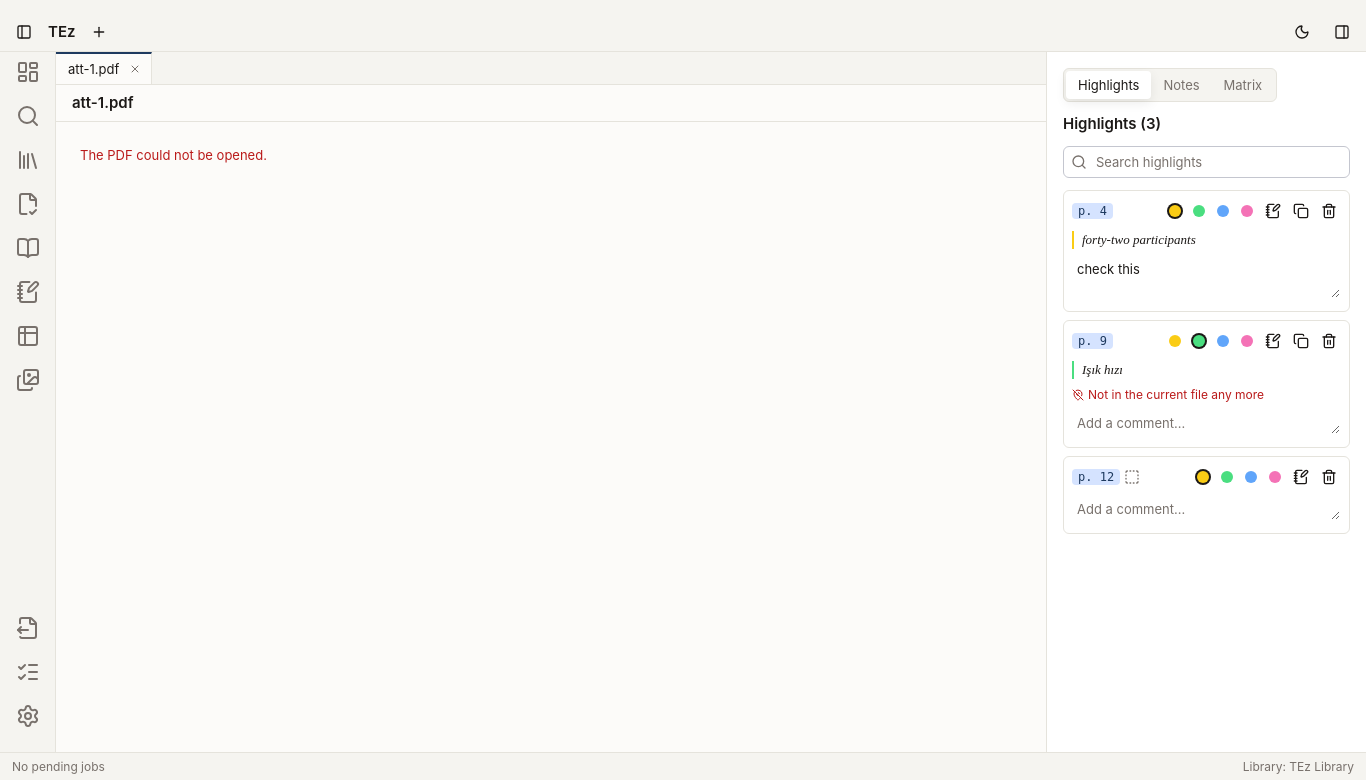
Test: the highlights panel › deletes a highlight and brings it back
The width and height of the screenshot is (1366, 780).
Click the button named "Delete the highlight" in the row of "p. 4".
click(1329, 211)  # box x1=1317 y1=199 x2=1341 y2=223
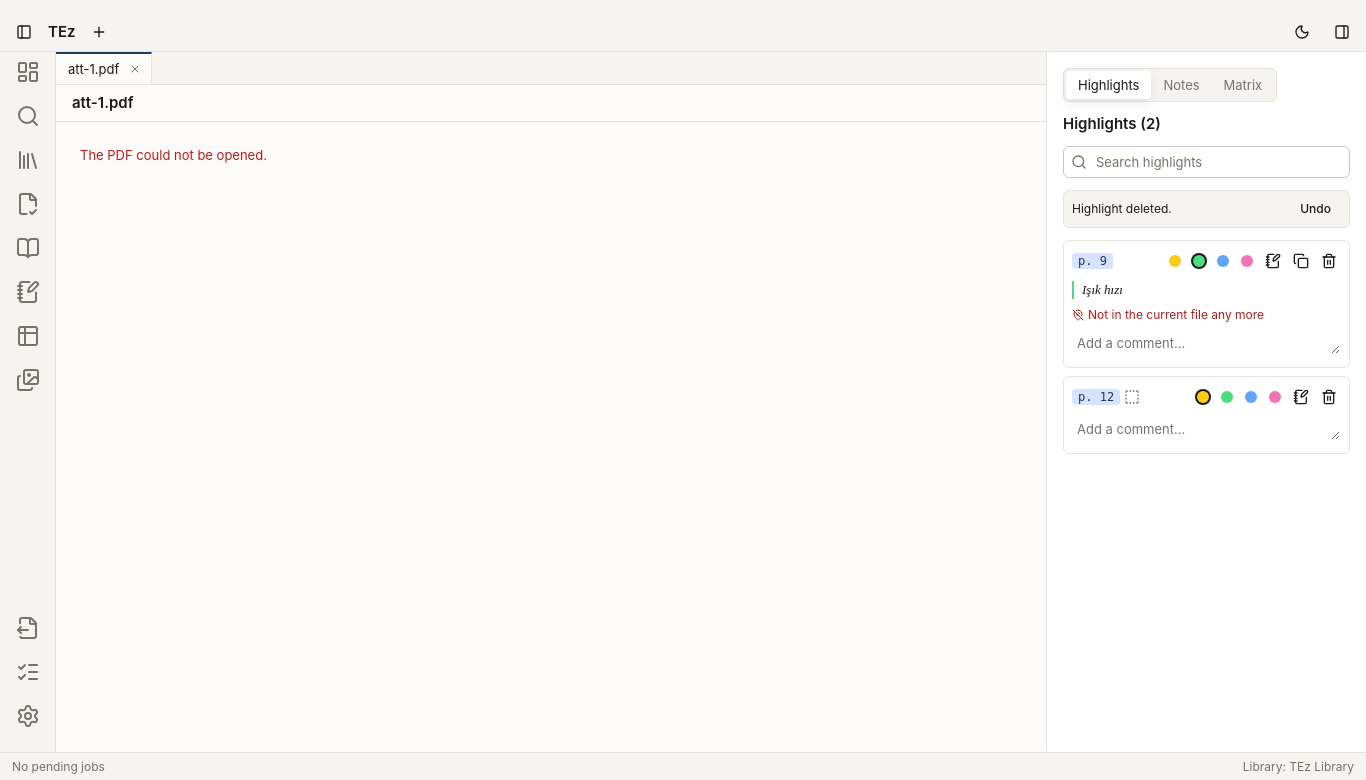
Check: the text "Highlight deleted." is shown, box x1=1072 y1=201 x2=1172 y2=216
Check: the text "forty-two participants" is gone
Click the button "Undo".
click(1316, 209)  # box x1=1290 y1=195 x2=1341 y2=223
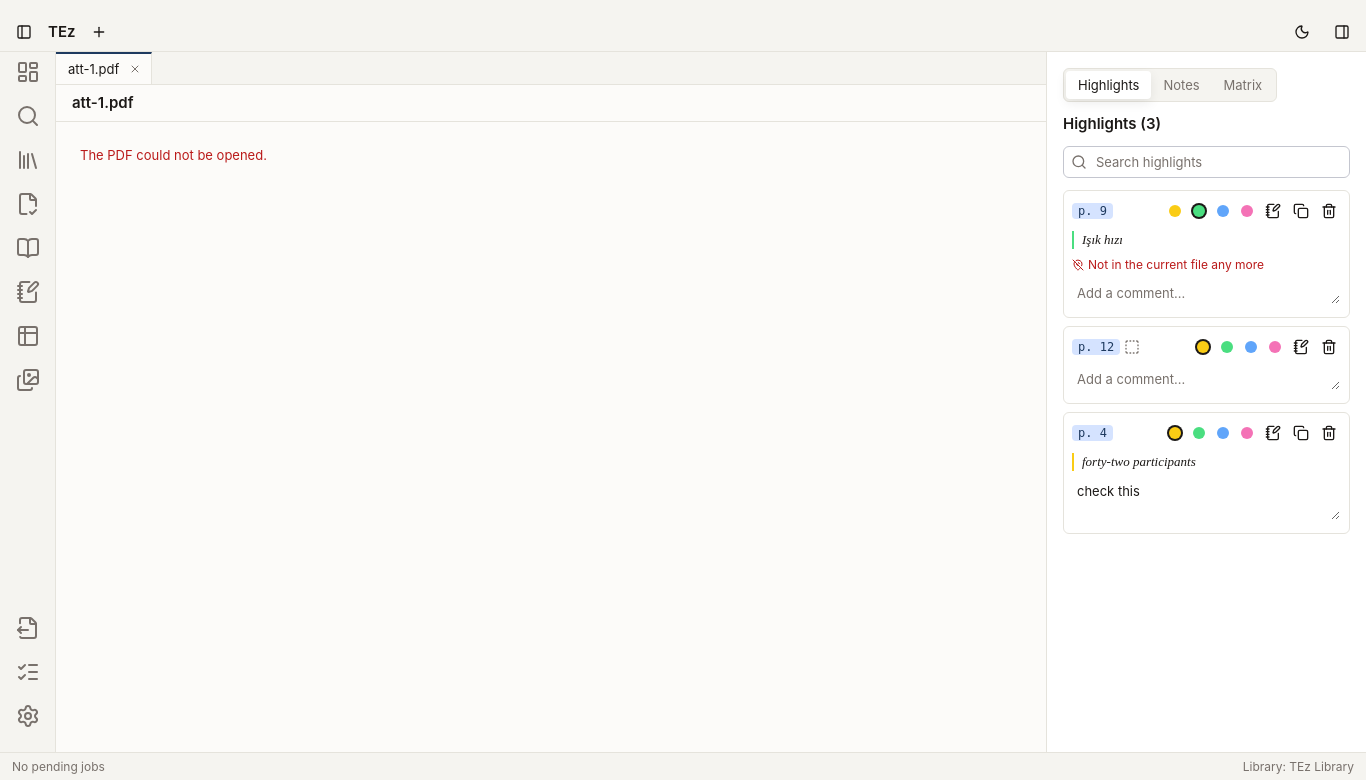
Check: the text "forty-two participants" is shown, box x1=1072 y1=453 x2=1341 y2=471
